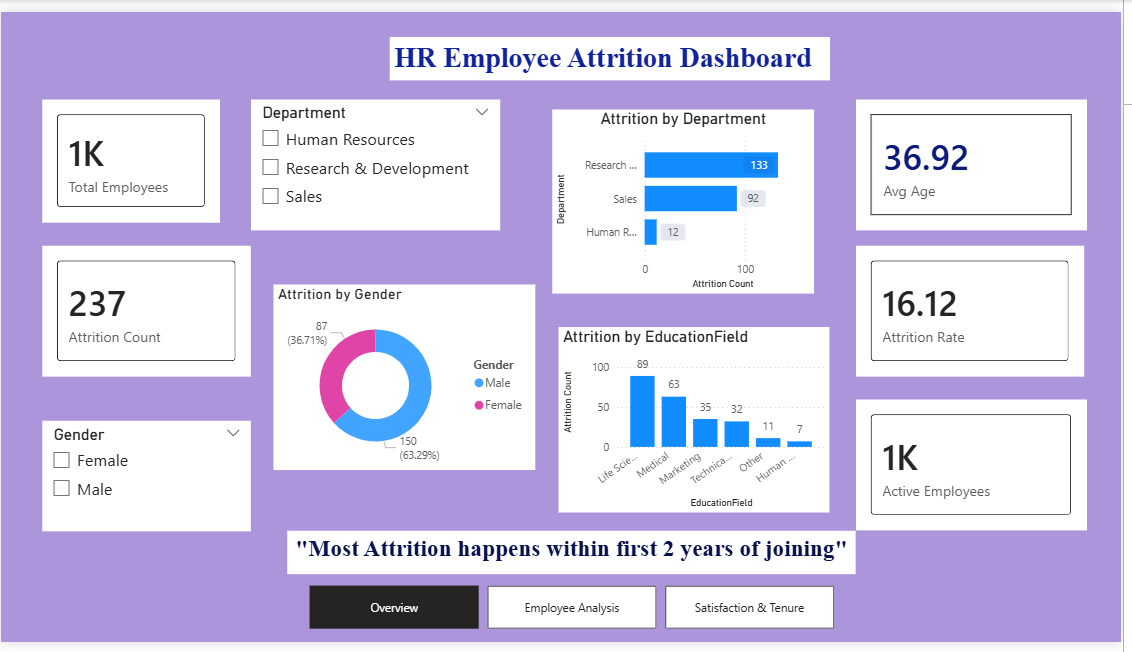

Layout of this report page (visuals, bound fields, positions):
{"tool":"powerbi","page":{"name":"Overview","canvas":[1280,720],"ordinal":0},"visuals":[{"type":"textbox","box":[444.7,28.5,503.2,49.9],"z":0},{"type":"cardVisual","fields":{"Data":["HR Employee Attrition.Total Employees"]},"box":[47.5,99.4,203.2,140.9],"z":1000},{"type":"cardVisual","fields":{"Data":["HR Employee Attrition.Active Employees"]},"box":[977.2,443.4,264,149.8],"z":2000},{"type":"cardVisual","fields":{"Data":["HR Employee Attrition.Attrition Count"]},"box":[47.5,266.9,238.7,149.8],"z":3000},{"type":"cardVisual","fields":{"Data":["HR Employee Attrition.Attrition Rate"]},"box":[977.2,266.9,261,149.8],"z":4000},{"type":"cardVisual","fields":{"Data":["HR Employee Attrition.Avg Age"]},"box":[977.2,99.4,264,149.8],"z":5000},{"type":"clusteredBarChart","title":"Attrition by Department","fields":{"Category":["HR Employee Attrition.Department"],"Y":["HR Employee Attrition.Attrition Count"]},"box":[630.2,111.2,299.5,210.6],"z":6000},{"type":"donutChart","title":"Attrition by Gender","fields":{"Category":["HR Employee Attrition.Gender"],"Y":["HR Employee Attrition.Attrition Count"]},"box":[311.4,311.4,299.5,212.1],"z":7000},{"type":"clusteredColumnChart","title":"Attrition by EducationField","fields":{"Category":["HR Employee Attrition.EducationField"],"Y":["HR Employee Attrition.Attrition Count"]},"box":[637.6,360.3,309.9,212.1],"z":8000},{"type":"slicer","fields":{"Values":["HR Employee Attrition.Department"]},"box":[286.2,99.4,284.7,149.8],"z":9000},{"type":"slicer","fields":{"Values":["HR Employee Attrition.Gender"]},"box":[47.5,467.1,238.7,126],"z":10000},{"type":"textbox","box":[327.8,593,650,49.9],"z":11000},{"type":"pageNavigator","box":[353.5,655.7,600.1,49.9],"z":12000}]}

Visuals, with their boxes in screenshot pixels (x1, y1, x2, y2), scaled from the page's 1280x720 canvas onto the 1132x652 screenshot:
textbox: (393, 26, 838, 71)
cardVisual - HR Employee Attrition.Total Employees: (42, 90, 222, 218)
cardVisual - HR Employee Attrition.Active Employees: (864, 402, 1098, 537)
cardVisual - HR Employee Attrition.Attrition Count: (42, 242, 253, 377)
cardVisual - HR Employee Attrition.Attrition Rate: (864, 242, 1095, 377)
cardVisual - HR Employee Attrition.Avg Age: (864, 90, 1098, 226)
"Attrition by Department" clusteredBarChart: (557, 101, 822, 291)
"Attrition by Gender" donutChart: (275, 282, 540, 474)
"Attrition by EducationField" clusteredColumnChart: (564, 326, 838, 518)
slicer - HR Employee Attrition.Department: (253, 90, 505, 226)
slicer - HR Employee Attrition.Gender: (42, 423, 253, 537)
textbox: (290, 537, 865, 582)
pageNavigator: (313, 594, 843, 639)
